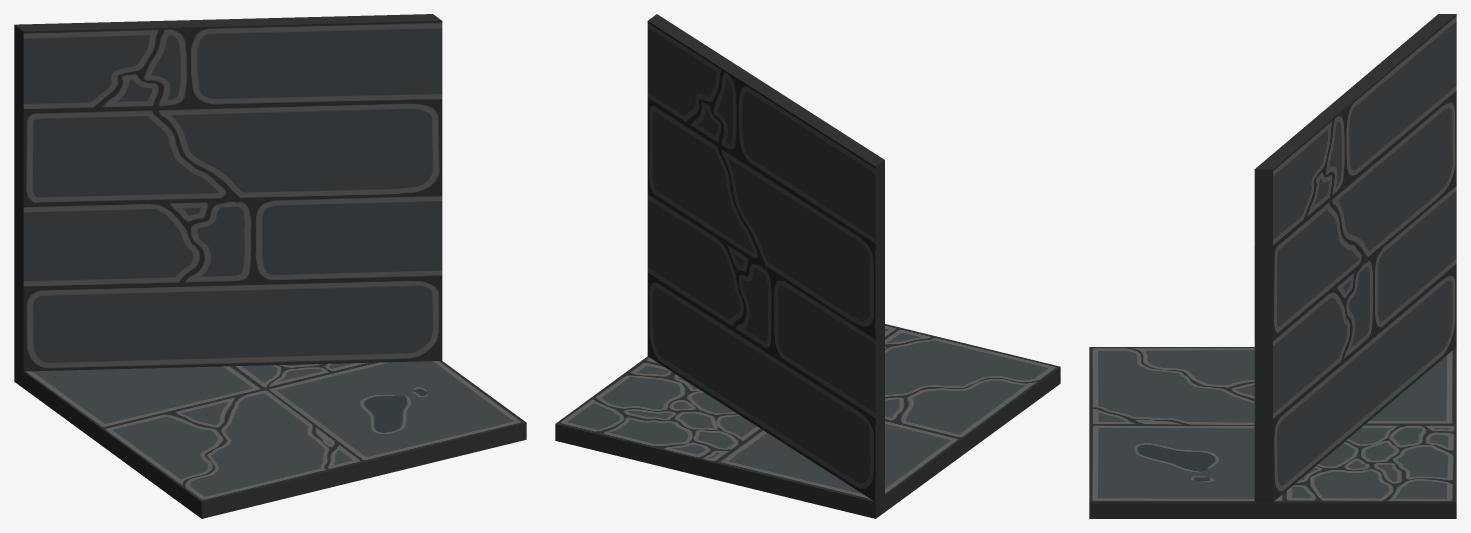
Rendered from Opening-LCURVE-NNE_v1.2.fbx.
3 views of the same model, side by side, from view 1: azimuth 30°, elevation 25°; view 2: azimuth 150°, elevation 25°; view 3: azimuth 270°, elevation 25° (orthographic). The views are drawn at different scales.
Visible parts, largest first — view 1: Wall-Curved-NNE; view 2: Wall-Curved-NNE; view 3: Wall-Curved-NNE.
Part boxes in pixels (bbox=[...]): Wall-Curved-NNE: bbox=[14, 14, 526, 518]; Wall-Curved-NNE: bbox=[555, 14, 1060, 518]; Wall-Curved-NNE: bbox=[1089, 14, 1456, 518].
Size of the model in its own units: 100 by 100 by 105.
